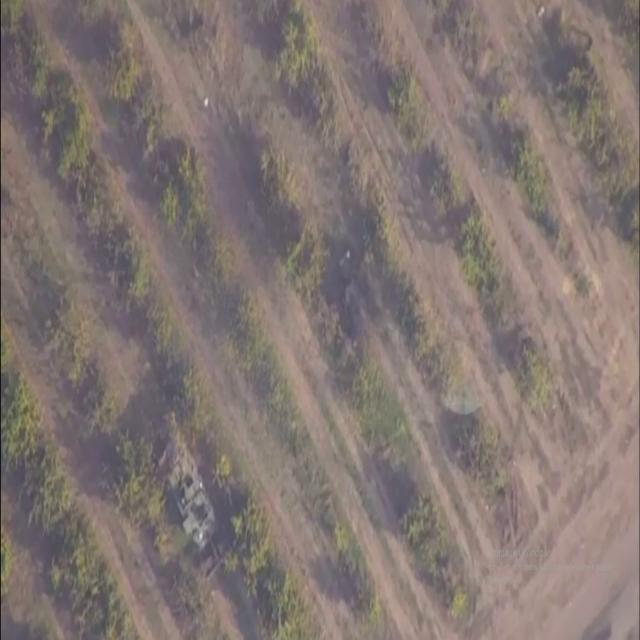APC: (159, 433, 220, 553)
